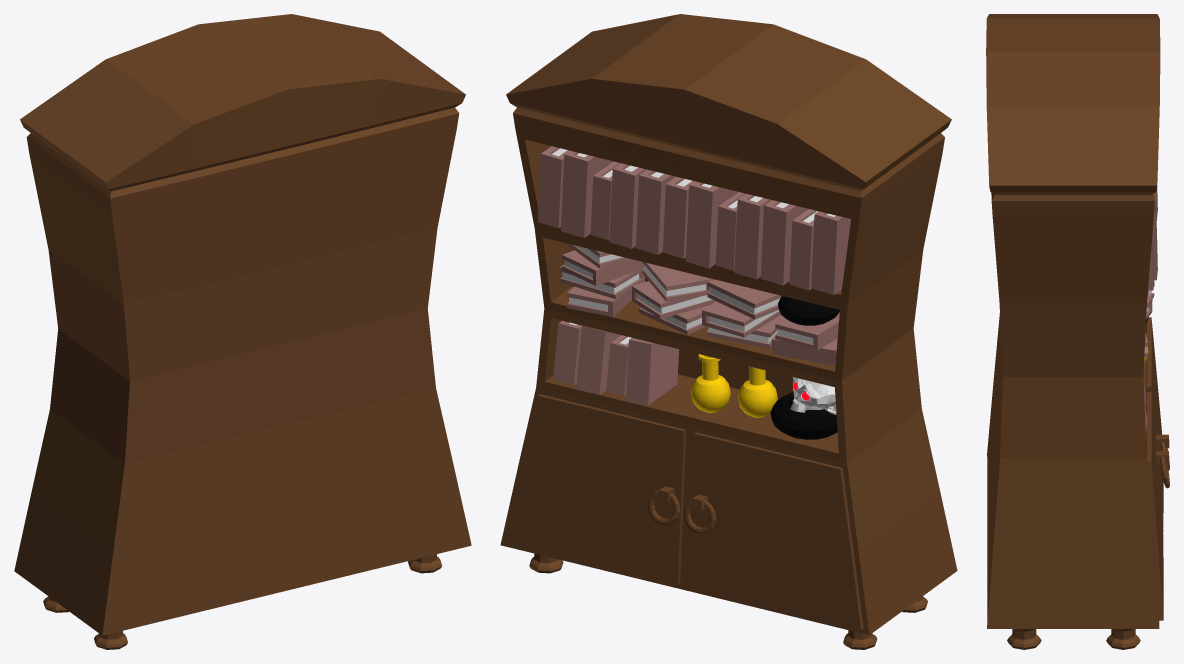
The model's file is cupboard.fbx.
3 renders of one model, left to right at view 1: azimuth 30°, elevation 25°; view 2: azimuth 150°, elevation 25°; view 3: azimuth 270°, elevation 25°, orthographic. The views are drawn at different scales.
Parts seen in each view (by area): view 1: Cube; view 2: Cube, shelf.030, shelf.025, shelf.011, shelf.006, shelf.001, shelf.003, shelf.008, shelf.004, shelf.009, shelf.027, shelf.012 (+21 smaller); view 3: Cube, shelf.011.
Part boxes in pixels (box(x1,y1,x2,y2)): Cube: box(14, 14, 471, 649); Cube: box(500, 14, 957, 649); shelf.030: box(770, 377, 837, 439); shelf.025: box(625, 338, 679, 405); shelf.011: box(560, 150, 613, 237); shelf.006: box(685, 181, 738, 268); shelf.001: box(811, 211, 850, 294); shelf.003: box(760, 200, 808, 285); shelf.008: box(635, 169, 675, 254); shelf.004: box(734, 194, 771, 279); shelf.009: box(609, 163, 646, 248); shelf.027: box(576, 325, 620, 394); shelf.012: box(537, 146, 569, 228); Cube: box(986, 14, 1169, 649); shelf.011: box(1153, 193, 1157, 280).
Bounding box in the file's own units: 3.85 × 1.7 × 5.28.
